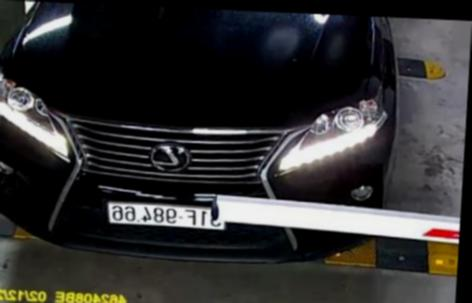License_Plate: (104, 201, 228, 234)
